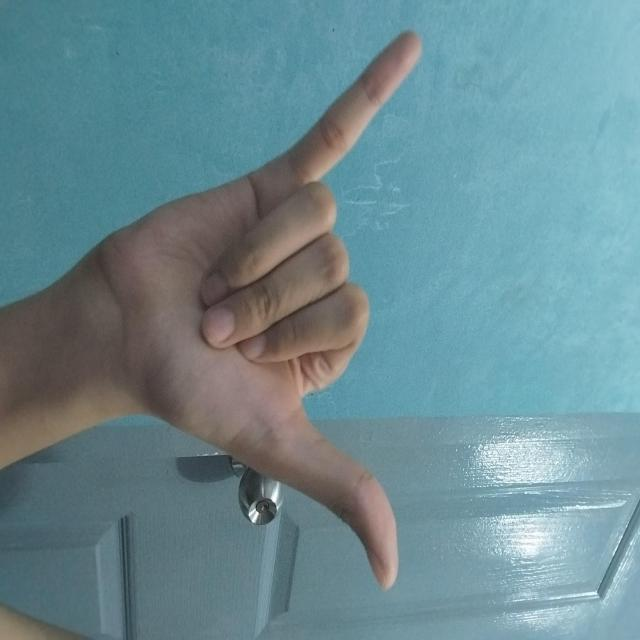Y: (32, 20, 486, 608)
